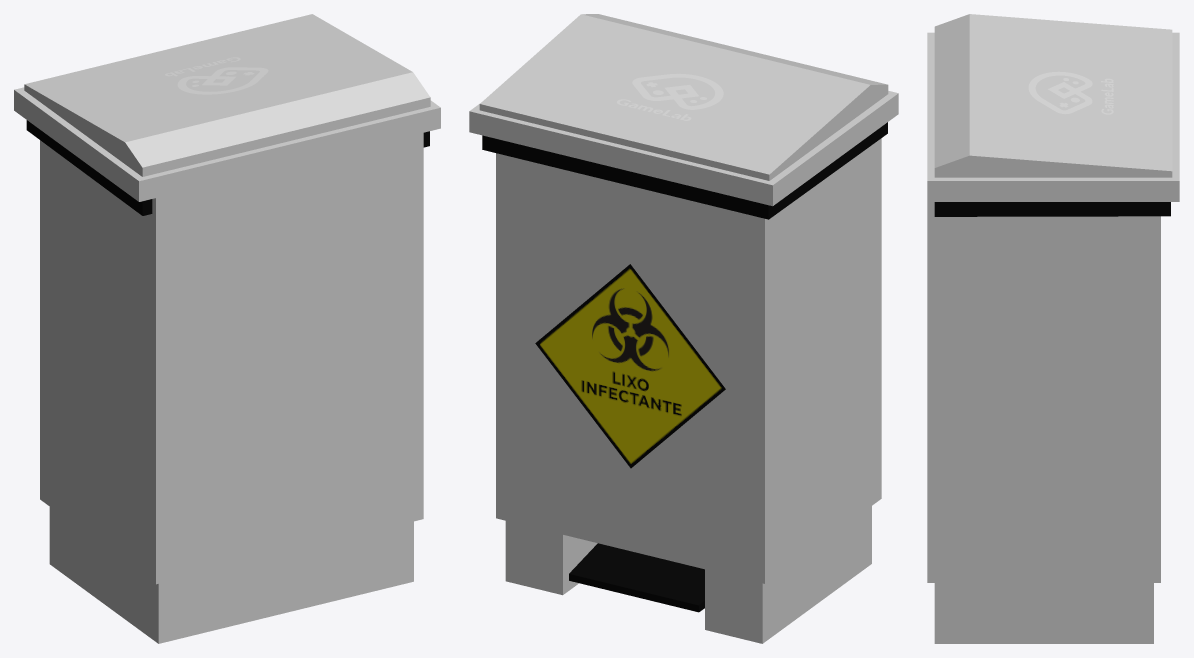
Rendered from lixeira infectante.fbx.
3 views of the same model, side by side, from view 1: azimuth 30°, elevation 25°; view 2: azimuth 150°, elevation 25°; view 3: azimuth 270°, elevation 25° (orthographic).
Visible parts, largest first — view 1: Corpo, Tampa, Subtampa, Plano; view 2: Corpo, Tampa, Rotulo, Subtampa, Pedal, Plano; view 3: Corpo, Tampa, Subtampa, Plano.
Boxes of the visible parts, bbox=[...] form: Corpo: bbox=[40, 124, 423, 643]; Tampa: bbox=[14, 14, 440, 201]; Subtampa: bbox=[26, 120, 429, 215]; Plano: bbox=[165, 57, 268, 94]; Corpo: bbox=[496, 138, 881, 643]; Tampa: bbox=[469, 14, 898, 206]; Rotulo: bbox=[535, 264, 725, 468]; Subtampa: bbox=[482, 122, 887, 219]; Pedal: bbox=[569, 543, 704, 612]; Plano: bbox=[617, 73, 723, 120]; Corpo: bbox=[927, 202, 1160, 643]; Tampa: bbox=[927, 14, 1179, 201]; Subtampa: bbox=[934, 202, 1170, 216]; Plano: bbox=[1028, 71, 1113, 114].
Size of the model in its own units: 49.61 by 77.4 by 35.62.
Materials: 4 (1 with a texture image).
